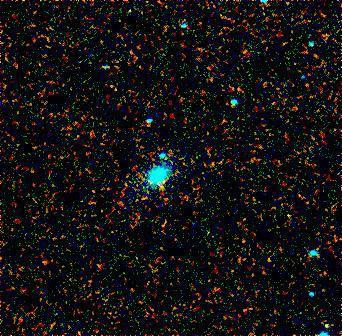star: (313, 310, 342, 336)
